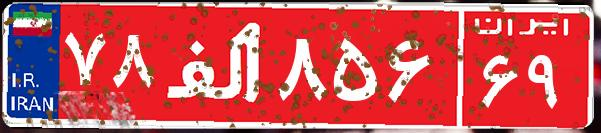5: (330, 28, 385, 110)
6: (385, 28, 445, 110), (475, 38, 525, 113)
7: (57, 26, 110, 107)
8: (273, 28, 330, 110), (110, 28, 158, 105)
9: (525, 38, 570, 115)
الف: (158, 15, 273, 115)
